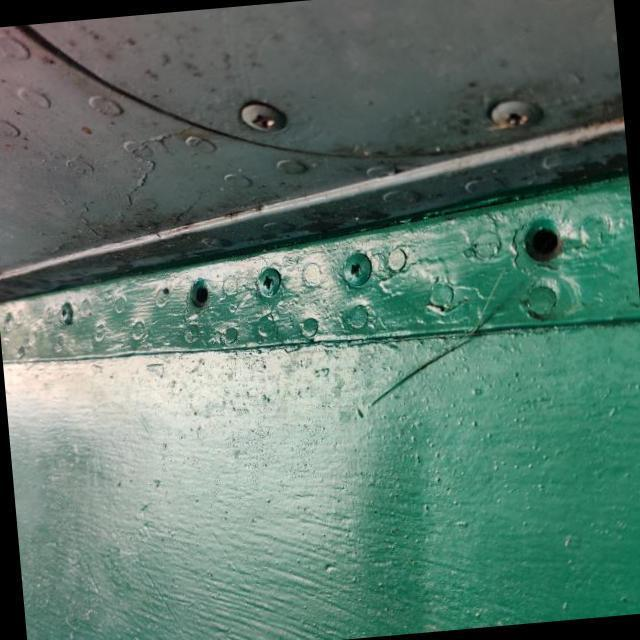Fastener Damage: (500, 198, 586, 286), (173, 264, 226, 326)
